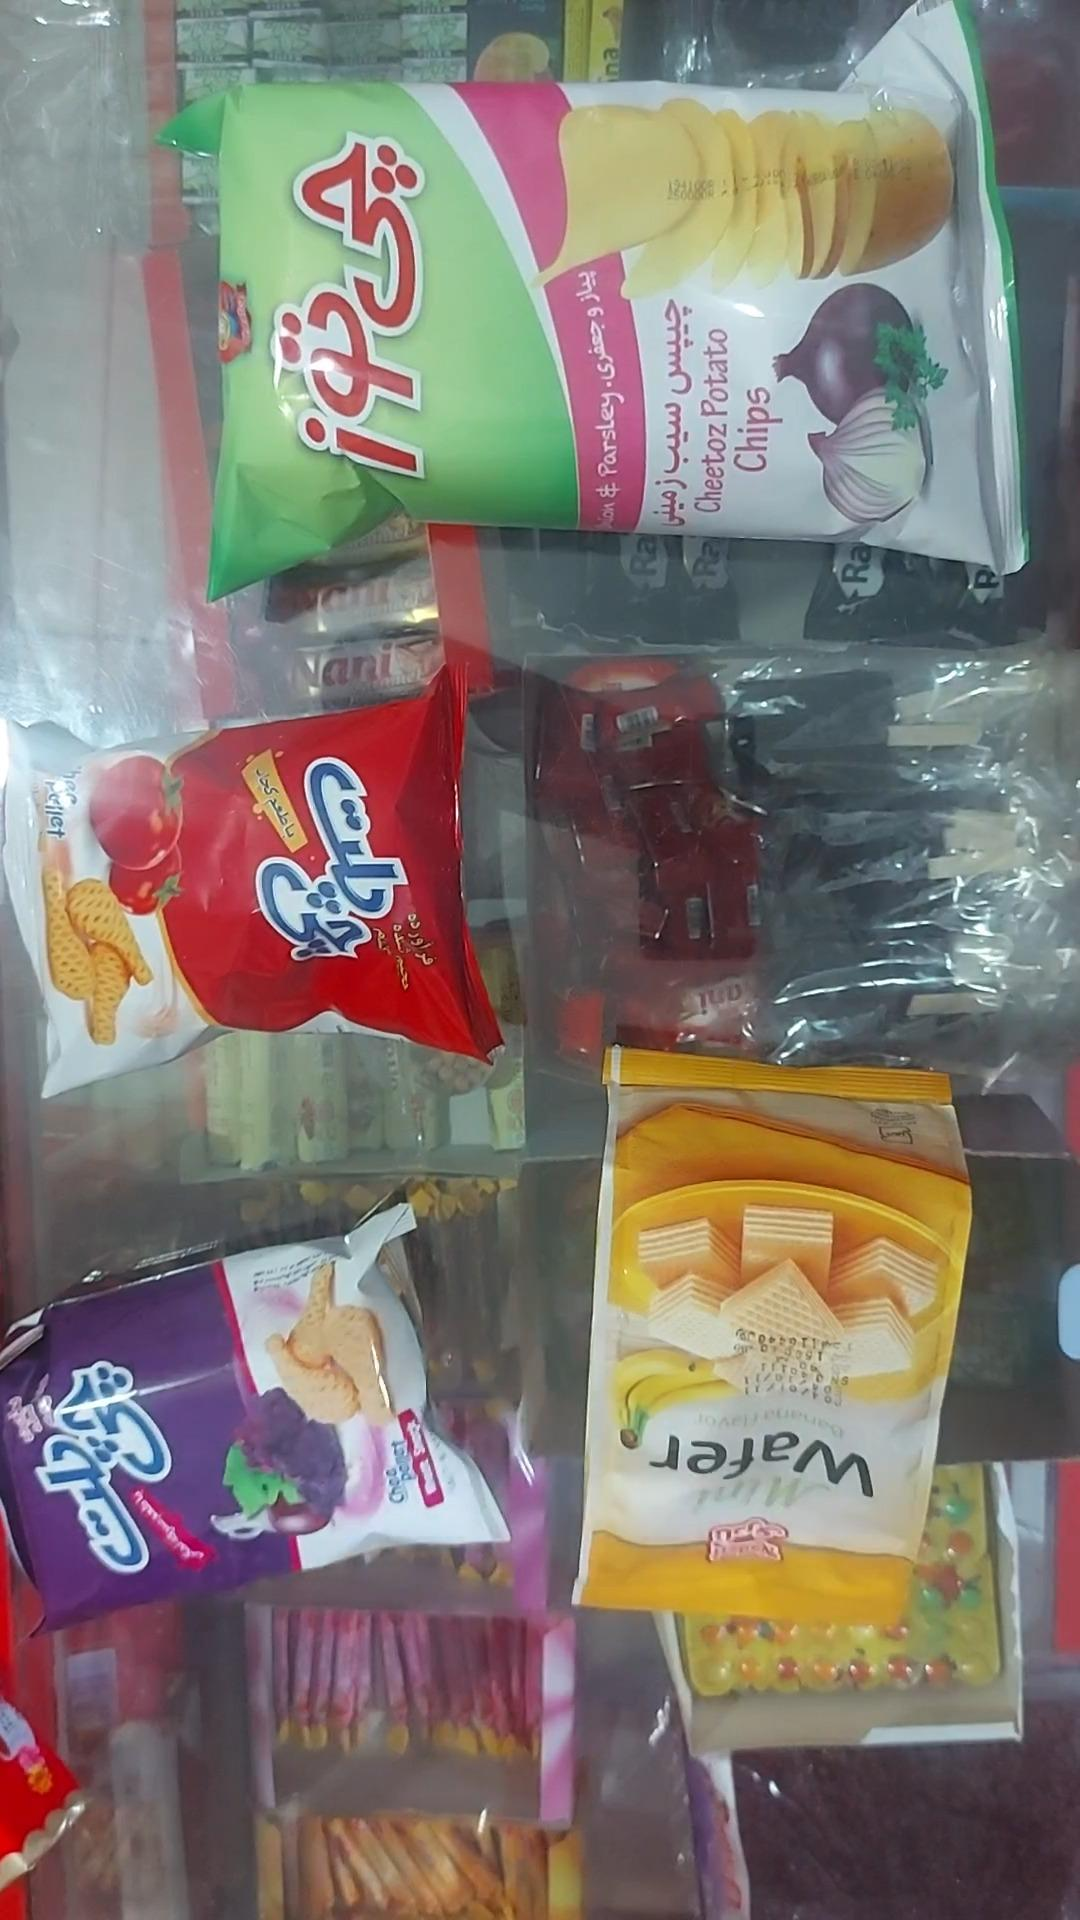Chee pellet ketchup: (4, 666, 504, 1102)
Chee pellet vinegar: (0, 1187, 512, 1634)
Cheetoz onion and parsley chips: (162, 0, 1029, 601)
Naderi mini wafer: (571, 1047, 973, 1636)
